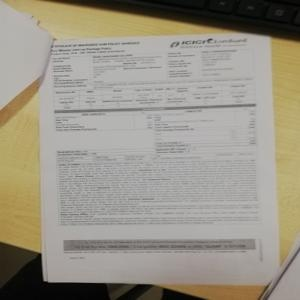image: (166, 37, 247, 49)
table: (53, 102, 259, 151), (52, 80, 257, 107), (46, 39, 174, 55)
text: (62, 157, 263, 225)
